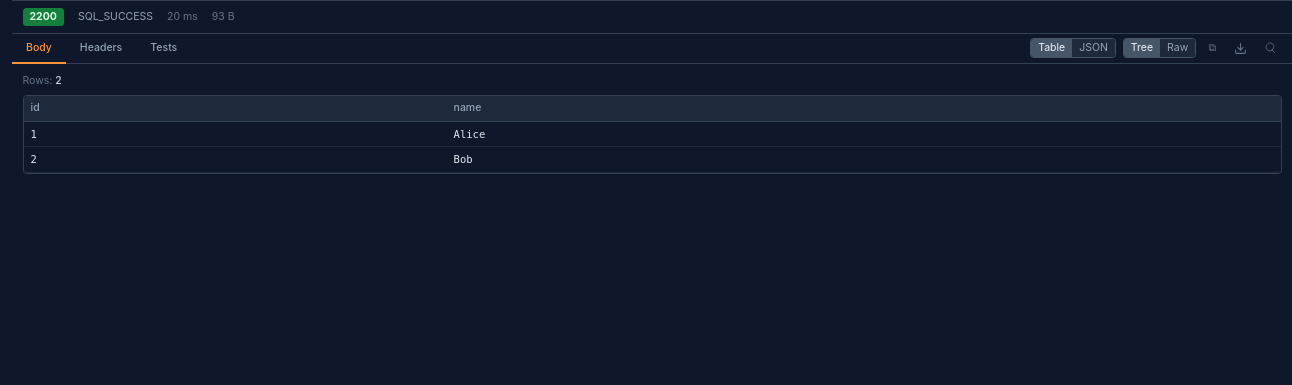
Test case: ResponseViewer search with folded trees › renders SQL result as table and switches to JSON mode
Check: the text "Rows:" is shown, box top-left (22, 74), bottom-right (55, 87)
Check: the text "Alice" is shown, box top-left (447, 121), bottom-right (1280, 146)
Click the button "JSON" at [1094, 48], box top-left (1072, 39), bottom-right (1115, 57)
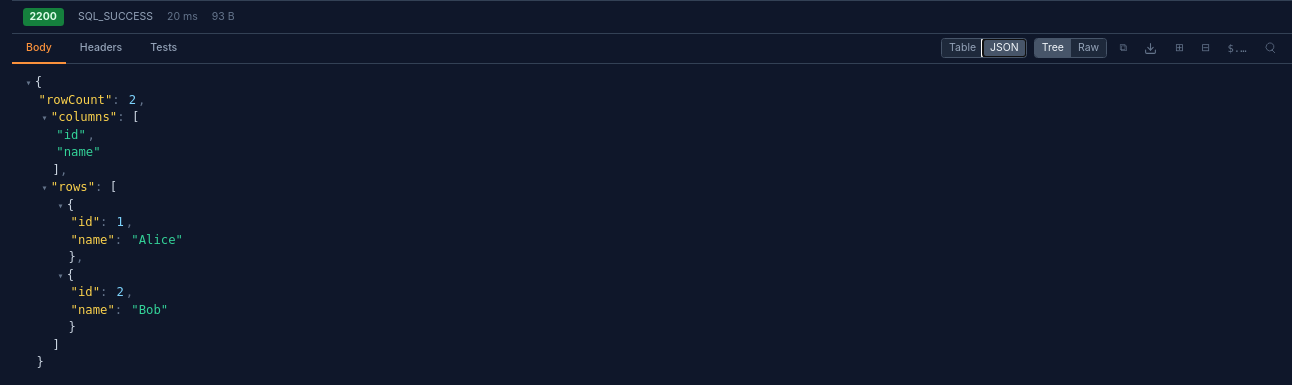
Check: the text "rowCount" is shown, box top-left (46, 92), bottom-right (105, 106)
